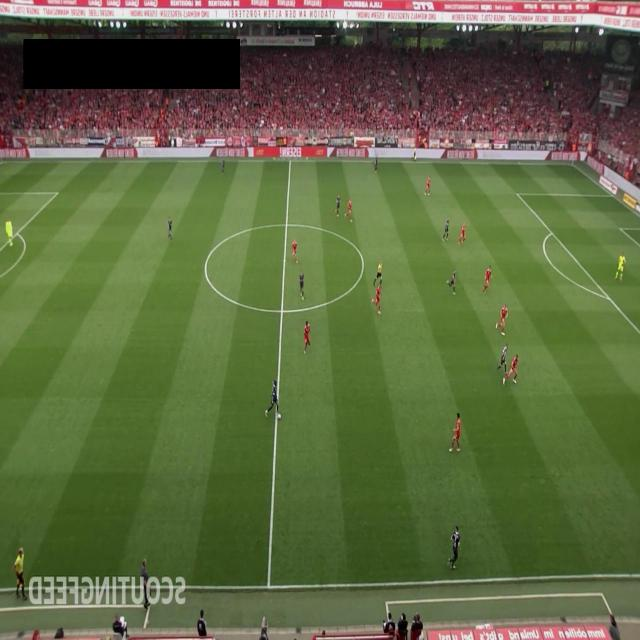ball: (278, 412, 282, 420)
goalkeeper: (614, 253, 626, 281), (5, 220, 13, 245)
player: (264, 380, 282, 420), (448, 526, 462, 570), (448, 412, 462, 452), (503, 354, 519, 386), (494, 342, 508, 373), (495, 304, 508, 336), (372, 282, 382, 314), (482, 265, 492, 293), (446, 270, 456, 295), (458, 221, 466, 247), (304, 320, 310, 354), (344, 200, 352, 222), (442, 218, 449, 242), (291, 240, 298, 264), (424, 176, 430, 196), (300, 271, 304, 299), (168, 218, 172, 242), (336, 194, 340, 217), (374, 152, 378, 174), (221, 160, 225, 174)
referee: (12, 548, 28, 600), (373, 260, 382, 286), (413, 146, 417, 162)
